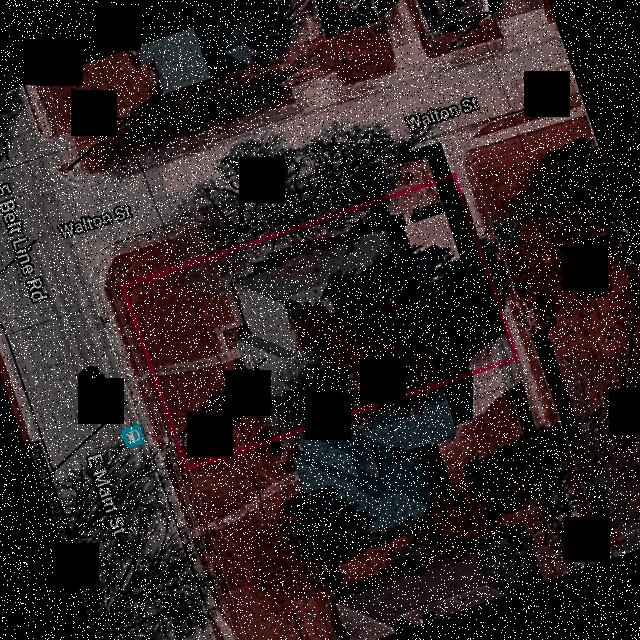Driveway: (154, 282, 244, 375)
Extra Driveway: (133, 367, 152, 379)
Extra Lawn: (104, 229, 215, 287), (136, 375, 185, 474), (104, 283, 149, 371), (392, 154, 437, 191)
Extra Sidewalk: (405, 144, 448, 177)
House: (233, 227, 399, 395)
Other: (385, 182, 461, 277)
Sidewalk: (440, 177, 506, 337), (440, 335, 513, 377)
